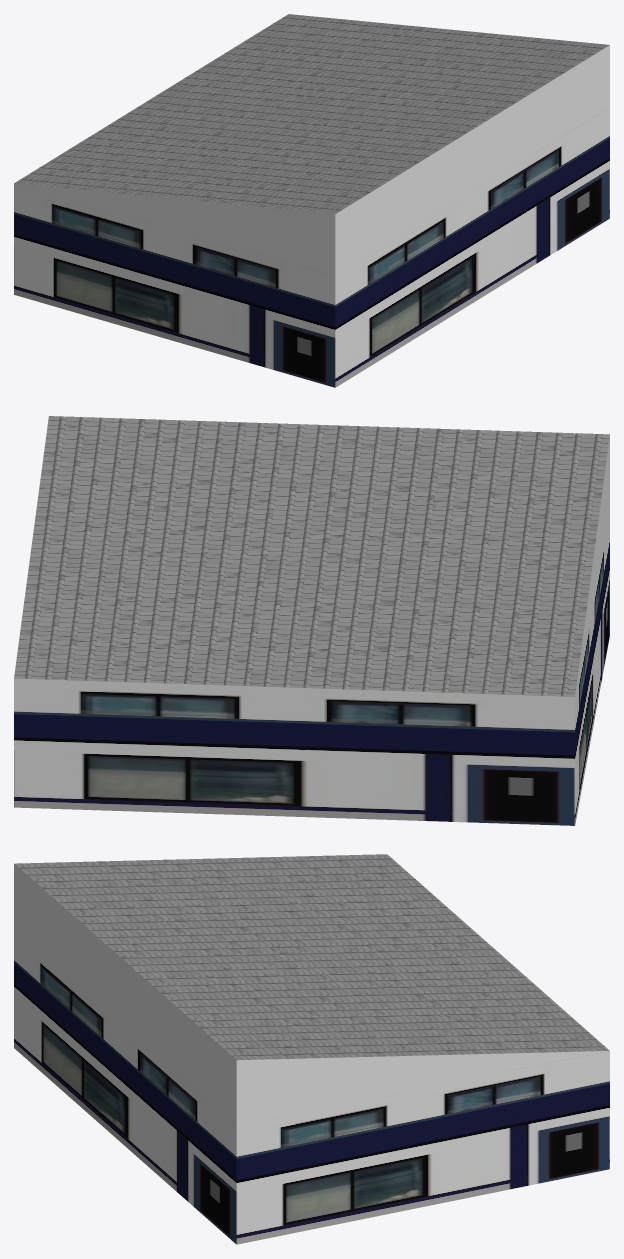
3 renders of one model, top to bottom at view 1: azimuth 30°, elevation 25°; view 2: azimuth 150°, elevation 25°; view 3: azimuth 270°, elevation 25°, orthographic. The views are drawn at different scales.
Visible parts, largest first — view 1: CityEngineMaterial_2_m, CityEngineMaterial_4_m, CityEngineMaterial_3_m; view 2: CityEngineMaterial_4_m, CityEngineMaterial_2_m, CityEngineMaterial_3_m; view 3: CityEngineMaterial_4_m, CityEngineMaterial_2_m, CityEngineMaterial_3_m.
Part boxes in pixels (x1=…): CityEngineMaterial_2_m: x1=14, y1=107, x2=609, y2=387; CityEngineMaterial_4_m: x1=14, y1=14, x2=609, y2=213; CityEngineMaterial_3_m: x1=15, y1=45, x2=609, y2=276; CityEngineMaterial_4_m: x1=14, y1=416, x2=609, y2=696; CityEngineMaterial_2_m: x1=14, y1=507, x2=609, y2=825; CityEngineMaterial_3_m: x1=575, y1=436, x2=609, y2=694; CityEngineMaterial_4_m: x1=14, y1=854, x2=609, y2=1060; CityEngineMaterial_2_m: x1=14, y1=930, x2=609, y2=1244; CityEngineMaterial_3_m: x1=14, y1=864, x2=608, y2=1126.
Size of the model in its own units: 35.27 by 11.15 by 32.64.
